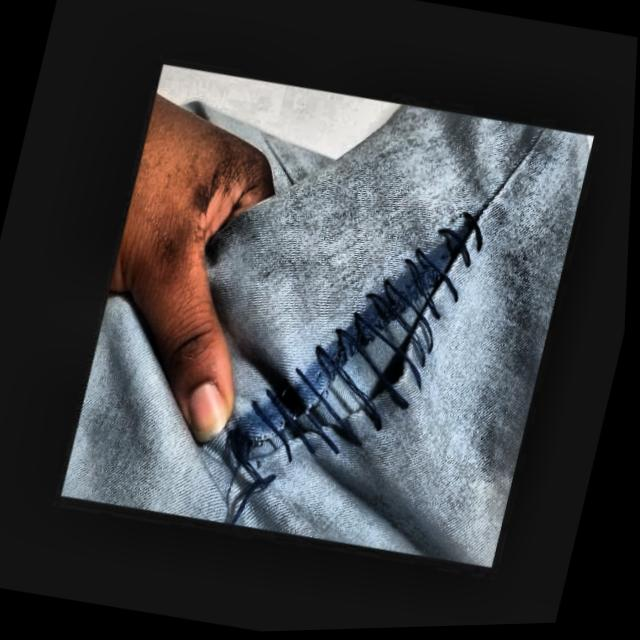Stitch: (213, 165, 520, 547)
